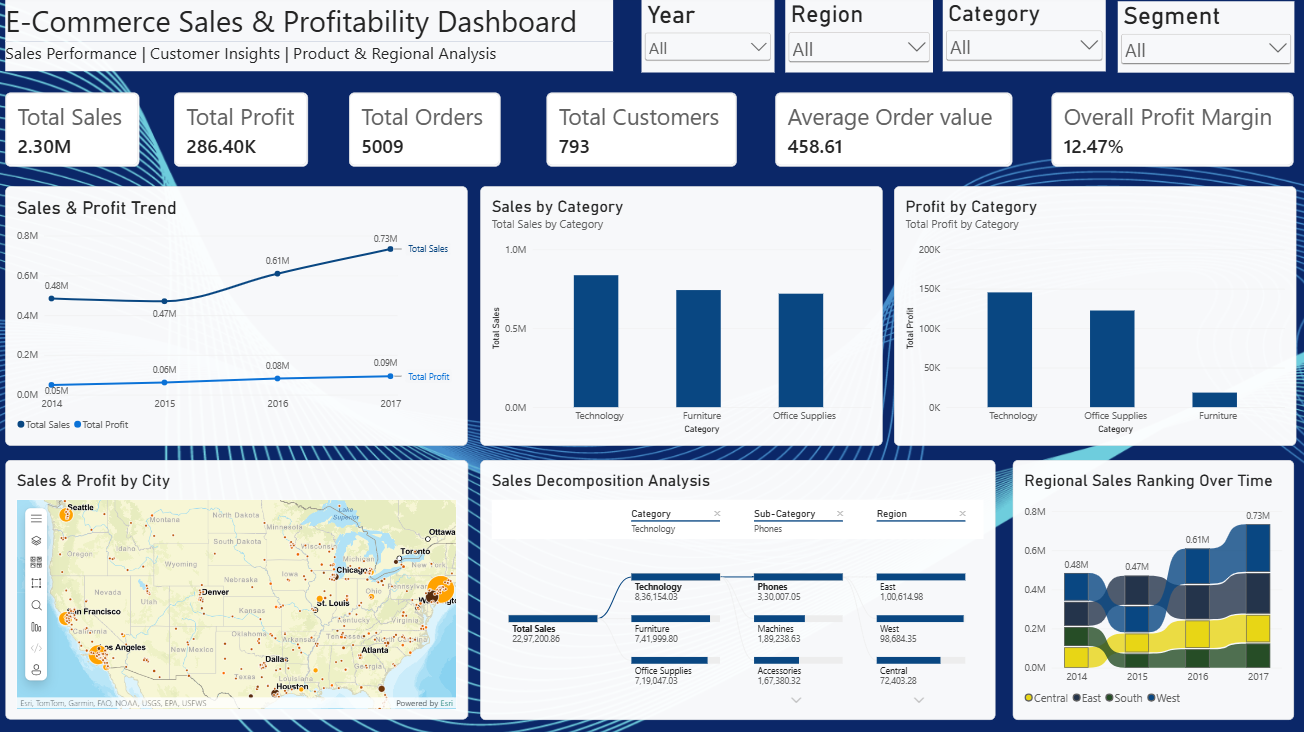

The dashboard page shown, as its layout file describes it:
{"tool":"powerbi","page":{"name":"Page 1","canvas":[1920,1080],"ordinal":0},"visuals":[{"type":"textbox","box":[9.2,0,892.1,60.7],"z":0},{"type":"textbox","box":[9.2,60.7,892.1,44.1],"z":1000},{"type":"slicer","title":"Year","fields":{"Values":["Superstore_Cleaned2.Year"]},"box":[943.6,0,195,106.7],"z":2000},{"type":"slicer","title":"Region","fields":{"Values":["Superstore_Cleaned2.Region"]},"box":[1153.3,0,217.1,106.7],"z":3000},{"type":"slicer","fields":{"Values":["Superstore_Cleaned2.Category"]},"box":[1385.1,0,239.1,104.8],"z":4000},{"type":"slicer","fields":{"Values":["Superstore_Cleaned2.Segment"]},"box":[1640.8,1.8,259.4,104.8],"z":5000},{"type":"cardVisual","fields":{"Data":["Superstore_Cleaned2.Total Sales"]},"box":[9.2,136.1,196.8,108.5],"z":6000},{"type":"cardVisual","fields":{"Data":["Superstore_Cleaned2.Total Profit"]},"box":[257.5,136.1,196.8,108.5],"z":7000},{"type":"cardVisual","fields":{"Data":["Superstore_Cleaned2.Total Orders"]},"box":[513.2,136.1,222.6,108.5],"z":8000},{"type":"cardVisual","fields":{"Data":["Superstore_Cleaned2.Total Customers"]},"box":[803.8,136.1,279.6,108.5],"z":9000},{"type":"cardVisual","fields":{"Data":["Superstore_Cleaned2.Overall Profit Margin"]},"box":[1545.1,136.1,355,108.5],"z":10000},{"type":"cardVisual","fields":{"Data":["Superstore_Cleaned2.Average Order value"]},"box":[1138.6,136.1,347.7,108.5],"z":11000},{"type":"lineChart","title":"Sales & Profit Trend","fields":{"Category":["Superstore_Cleaned2.Year"],"Y":["Superstore_Cleaned2.Total Sales","Superstore_Cleaned2.Total Profit"]},"box":[9.2,274.1,678.8,380.8],"z":12000},{"type":"clusteredColumnChart","title":"Sales by Category","fields":{"Category":["Superstore_Cleaned2.Category"],"Y":["Superstore_Cleaned2.Total Sales"]},"box":[706.3,274.1,590.5,380.8],"z":13000},{"type":"clusteredColumnChart","title":"Profit by Category","fields":{"Category":["Superstore_Cleaned2.Category"],"Y":["Superstore_Cleaned2.Total Profit"]},"box":[1313.4,274.1,590.5,380.8],"z":14000},{"type":"esriVisual","title":"Sales & Profit by City","fields":{"Color":["Superstore_Cleaned2.Total Profit"],"Location":["Superstore_Cleaned2.City"],"Size":["Superstore_Cleaned2.Total Sales"]},"box":[9.2,675,679,381],"z":15000},{"type":"decompositionTreeVisual","title":"Sales Decomposition Analysis","fields":{"Analyze":["Superstore_Cleaned2.Total Sales"],"ExplainBy":["Superstore_Cleaned2.Category","Superstore_Cleaned2.Sub-Category","Superstore_Cleaned2.Region"]},"box":[706.2,675,755.7,381.5],"z":16000},{"type":"ribbonChart","title":"Regional Sales Ranking Over Time","fields":{"Category":["Superstore_Cleaned2.Year"],"Series":["Superstore_Cleaned2.Region"],"Y":["Superstore_Cleaned2.Total Sales"]},"box":[1487.6,675,412.7,381.5],"z":17000}]}

Visuals, with their boxes in screenshot pixels (x1, y1, x2, y2), scaled from the page's 1920x1080 canvas onto the 1304x732 screenshot:
textbox: detection(6, 0, 612, 41)
textbox: detection(6, 41, 612, 71)
"Year" slicer: detection(641, 0, 773, 72)
"Region" slicer: detection(783, 0, 931, 72)
slicer - Superstore_Cleaned2.Category: detection(941, 0, 1103, 71)
slicer - Superstore_Cleaned2.Segment: detection(1114, 1, 1291, 72)
cardVisual - Superstore_Cleaned2.Total Sales: detection(6, 92, 140, 166)
cardVisual - Superstore_Cleaned2.Total Profit: detection(175, 92, 309, 166)
cardVisual - Superstore_Cleaned2.Total Orders: detection(349, 92, 500, 166)
cardVisual - Superstore_Cleaned2.Total Customers: detection(546, 92, 736, 166)
cardVisual - Superstore_Cleaned2.Overall Profit Margin: detection(1049, 92, 1290, 166)
cardVisual - Superstore_Cleaned2.Average Order value: detection(773, 92, 1009, 166)
"Sales & Profit Trend" lineChart: detection(6, 186, 467, 444)
"Sales by Category" clusteredColumnChart: detection(480, 186, 881, 444)
"Profit by Category" clusteredColumnChart: detection(892, 186, 1293, 444)
"Sales & Profit by City" esriVisual: detection(6, 458, 467, 716)
"Sales Decomposition Analysis" decompositionTreeVisual: detection(480, 458, 993, 716)
"Regional Sales Ranking Over Time" ribbonChart: detection(1010, 458, 1291, 716)
